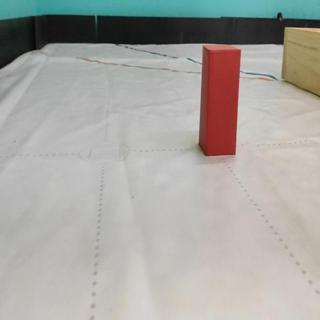redbox: (199, 43, 241, 156)
